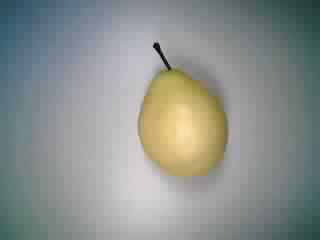pear: (118, 32, 237, 190)
